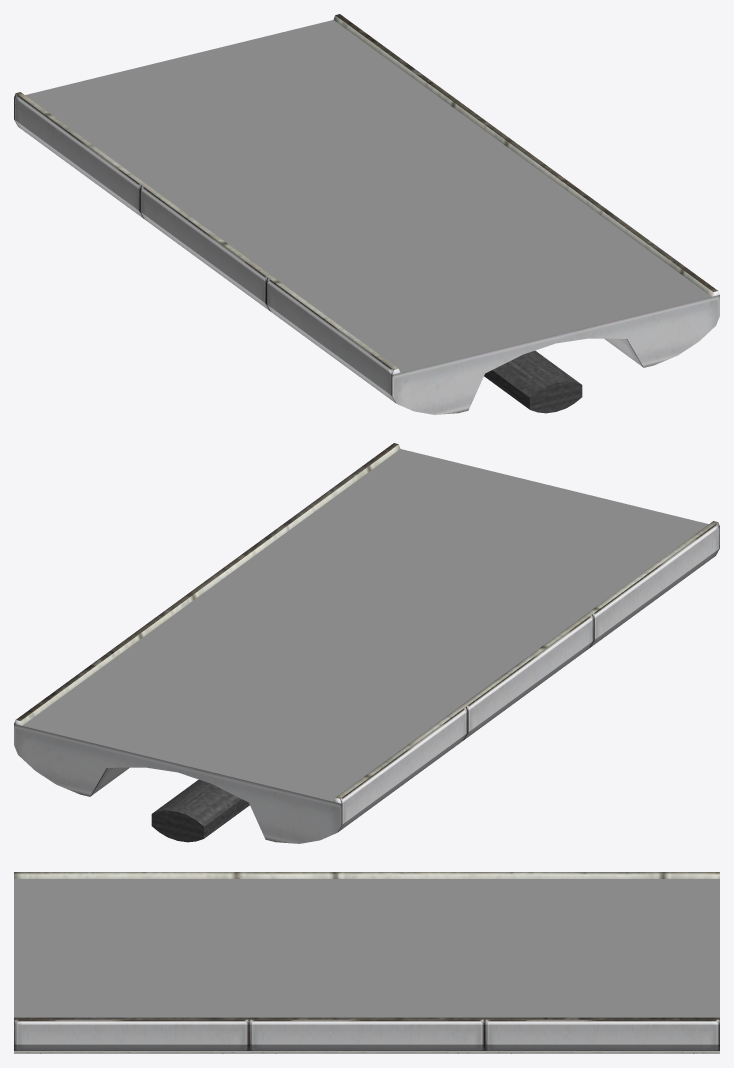
Rendered from Neon_SrvWalkway_4x6_01.FBX.
3 renders of one model, top to bottom at view 1: azimuth 30°, elevation 25°; view 2: azimuth 150°, elevation 25°; view 3: azimuth 270°, elevation 25°, orthographic. The views are drawn at different scales.
Visible parts, largest first — view 1: Neon_SrvWalkway_4x6_01; view 2: Neon_SrvWalkway_4x6_01; view 3: Neon_SrvWalkway_4x6_01.
Boxes of the visible parts, box(x1,y1,x2,y2) form: Neon_SrvWalkway_4x6_01: box(14, 14, 719, 414); Neon_SrvWalkway_4x6_01: box(14, 443, 719, 843); Neon_SrvWalkway_4x6_01: box(14, 872, 719, 1053).
Size of the model in its own units: 4 by 0.95 by 8.
